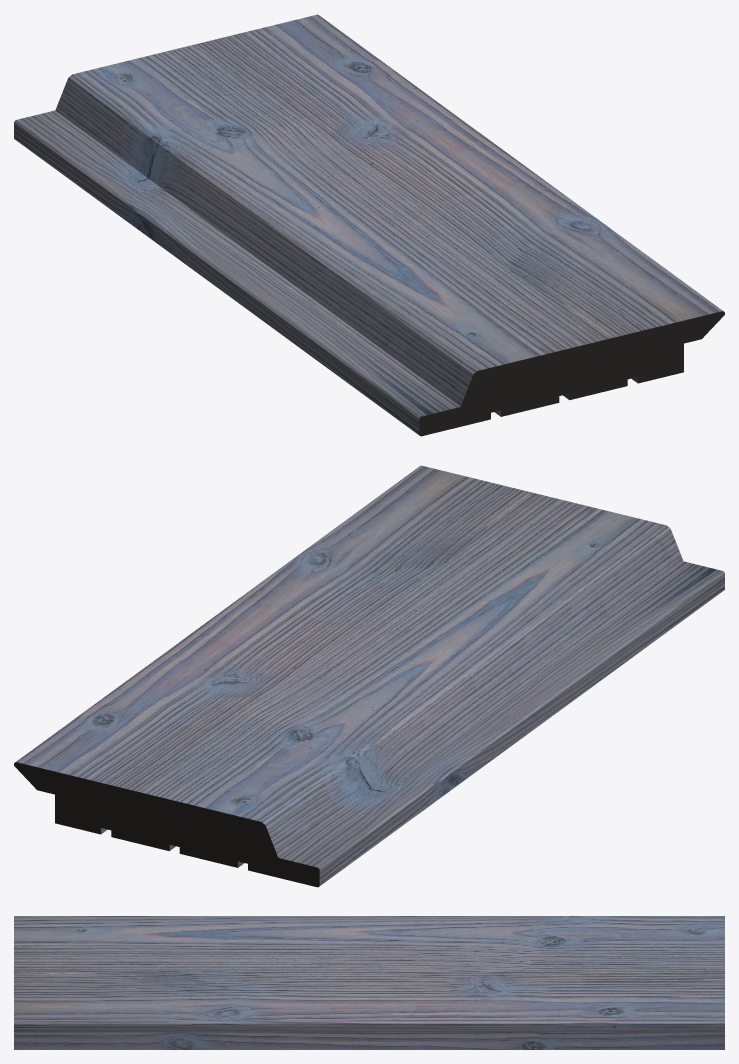
The model's file is spruce-facade-half-tenon-45-latte.glb.
3 views of the same model, one above another, from view 1: azimuth 30°, elevation 25°; view 2: azimuth 150°, elevation 25°; view 3: azimuth 270°, elevation 25° (orthographic). The views are drawn at different scales.
Parts seen in each view (by area): view 1: Pusė_Špunto_45; view 2: Pusė_Špunto_45; view 3: Pusė_Špunto_45.
Part boxes in pixels (bbox=[...]): Pusė_Špunto_45: bbox=[14, 14, 724, 436]; Pusė_Špunto_45: bbox=[14, 465, 724, 887]; Pusė_Špunto_45: bbox=[14, 916, 724, 1049].
Size of the model in its own units: 0.0723 by 0.0117 by 0.166.
3 materials, 1 textured.
